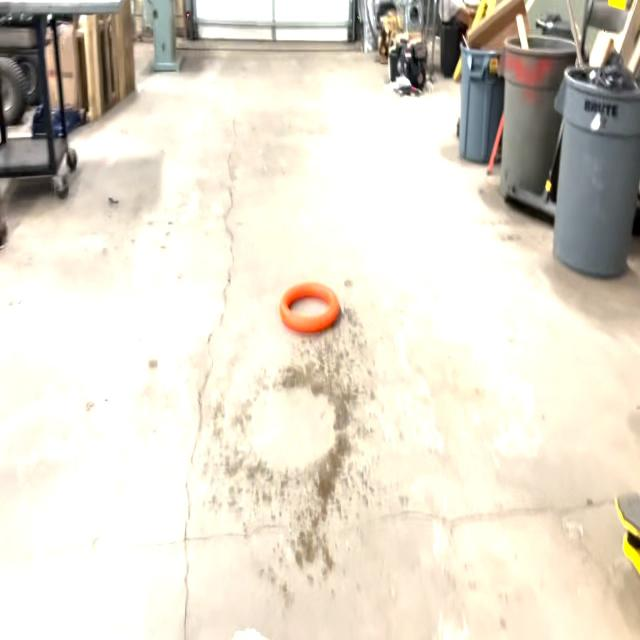note: (276, 278, 342, 334)
